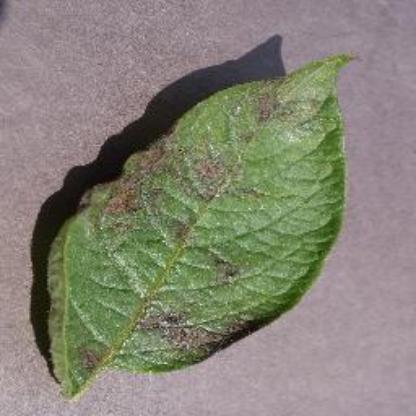Late-Blight: (21, 36, 414, 406)
